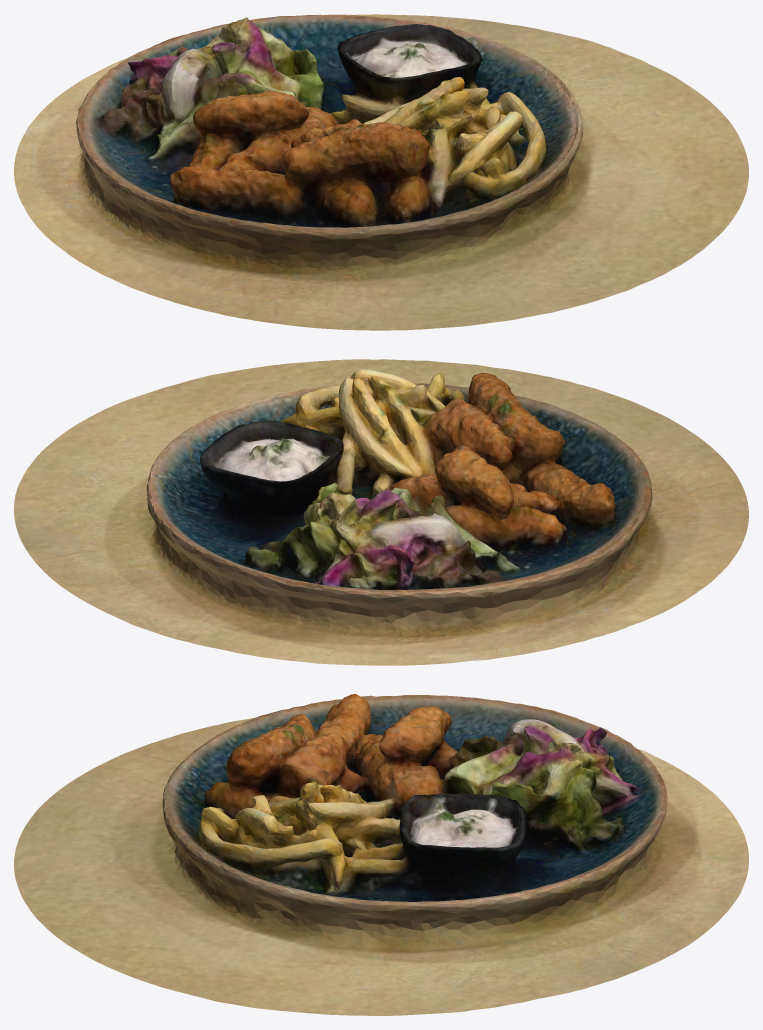
The model's file is fishfingers-resized.glb.
3 views of the same model, one above another, from view 1: azimuth 30°, elevation 25°; view 2: azimuth 150°, elevation 25°; view 3: azimuth 270°, elevation 25° (orthographic).
Bounding box in the file's own units: 0.3993 × 0.063 × 0.3994.
1 material, 1 textured.
